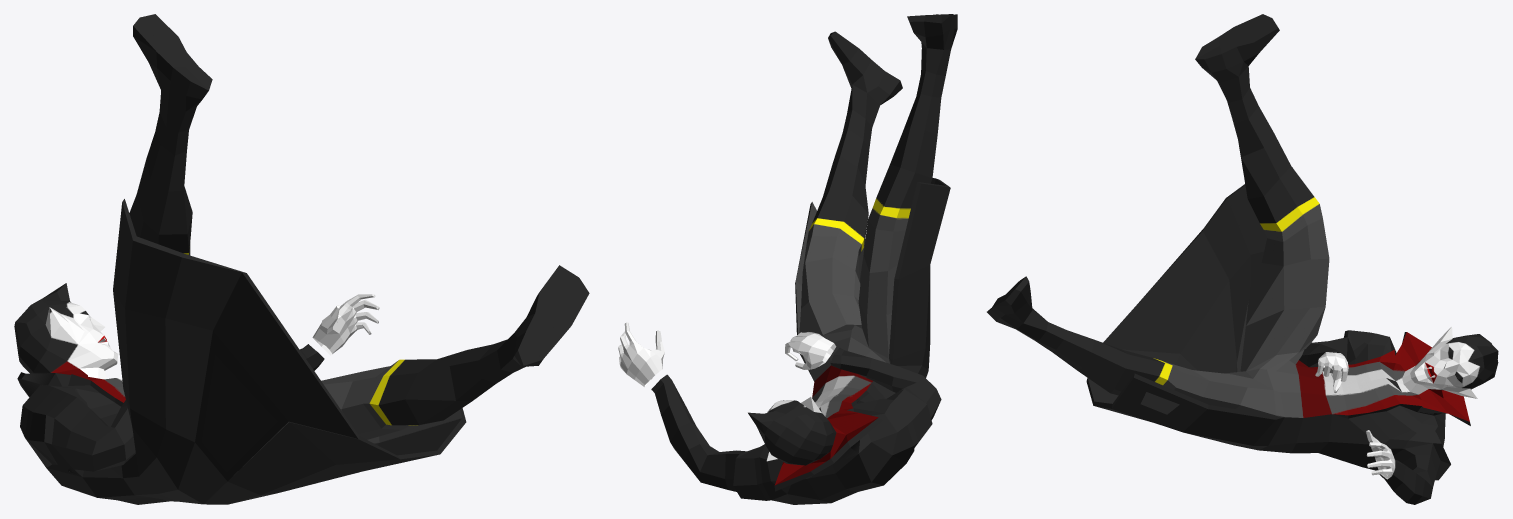
Rendered from VampireDead(34).obj.
The picture shows the model from 3 angles, left to right: view 1: azimuth 30°, elevation 25°; view 2: azimuth 150°, elevation 25°; view 3: azimuth 270°, elevation 25°; orthographic projection. The views are drawn at different scales.
Visible parts, largest first — view 1: Plane002; view 2: Plane002; view 3: Plane002.
Boxes of the visible parts, x1=… form: Plane002: x1=14, y1=14, x2=589, y2=504; Plane002: x1=618, y1=14, x2=957, y2=504; Plane002: x1=987, y1=14, x2=1498, y2=504.
Size of the model in its own units: 169 by 249 by 270.
